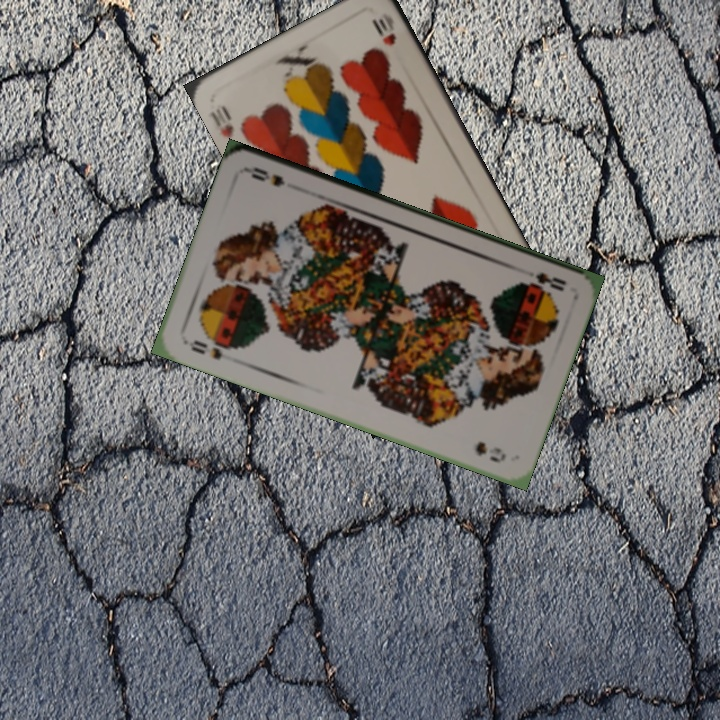H10: (206, 99, 236, 141)
SO: (526, 268, 570, 294), (187, 336, 225, 362)
